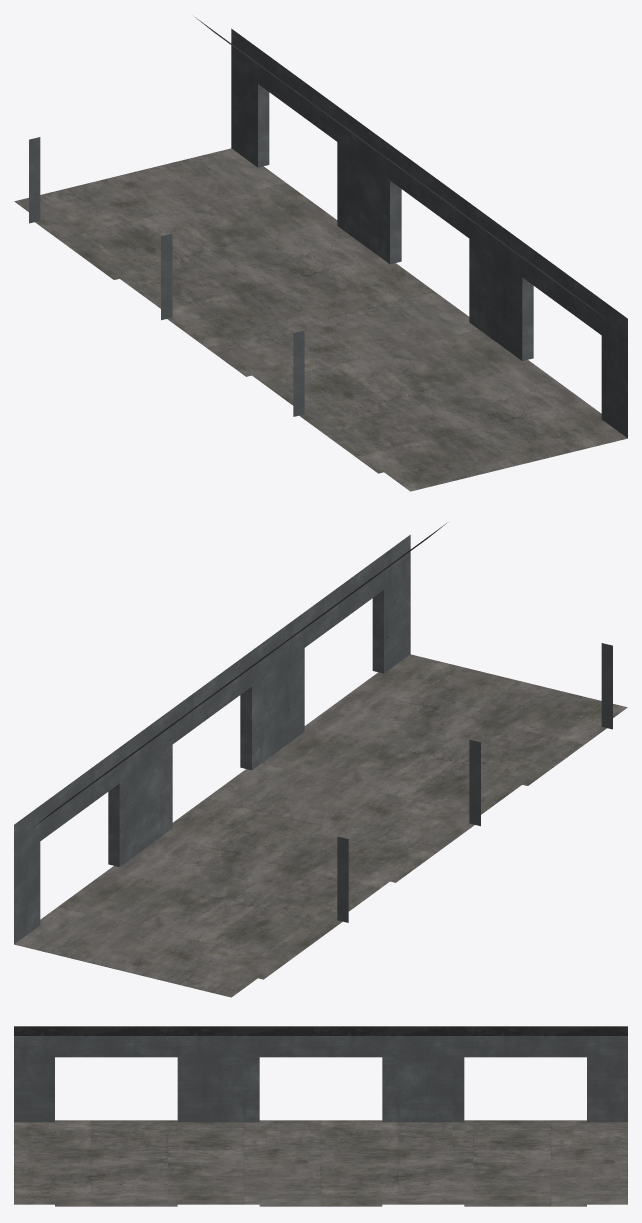
The model's file is hallway_straight.glb.
The picture shows the model from 3 angles, top to bottom: view 1: azimuth 30°, elevation 25°; view 2: azimuth 150°, elevation 25°; view 3: azimuth 270°, elevation 25°; orthographic projection. The views are drawn at different scales.
Parts seen in each view (by area): view 1: StraightHallway -col; view 2: StraightHallway -col; view 3: StraightHallway -col.
Part boxes in pixels (box(x1,y1,x2,y2)): StraightHallway -col: box(14, 17, 627, 491); StraightHallway -col: box(14, 523, 627, 997); StraightHallway -col: box(14, 1026, 627, 1206).
Bounding box in the file's own units: 10.5 × 6 × 30.
Materials: 3 (3 with a texture image).
